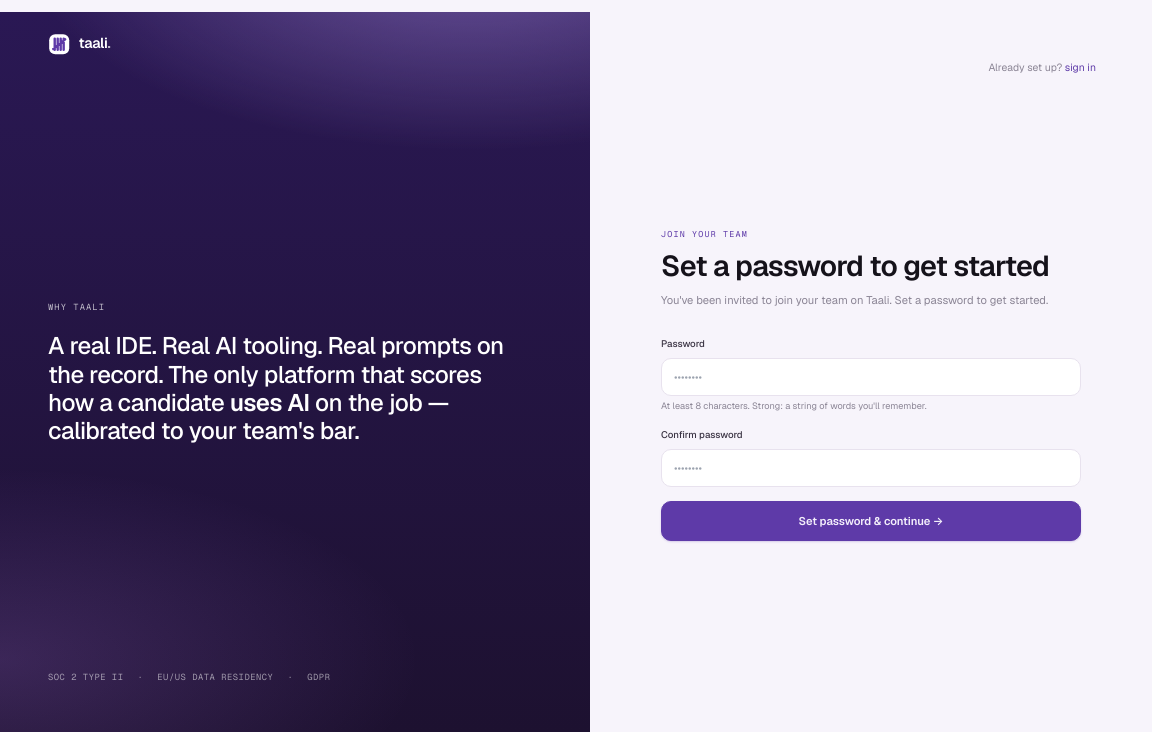
Test: Auth page redesign › offers a sign-in link when the invite was already accepted
Type "password123" into the password field with placeholder "••••••••" at [871, 377], box [661,358,1081,396]
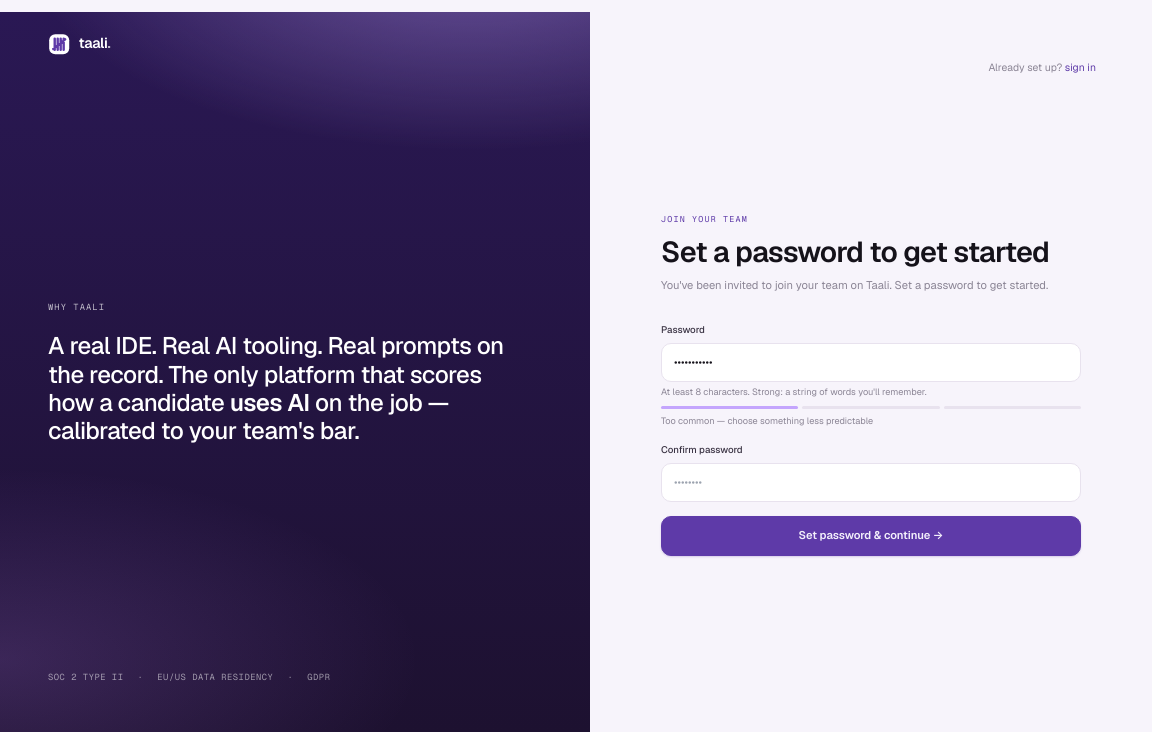
Type "password123" into the password field with placeholder "••••••••" at [871, 482], box [661,463,1081,502]
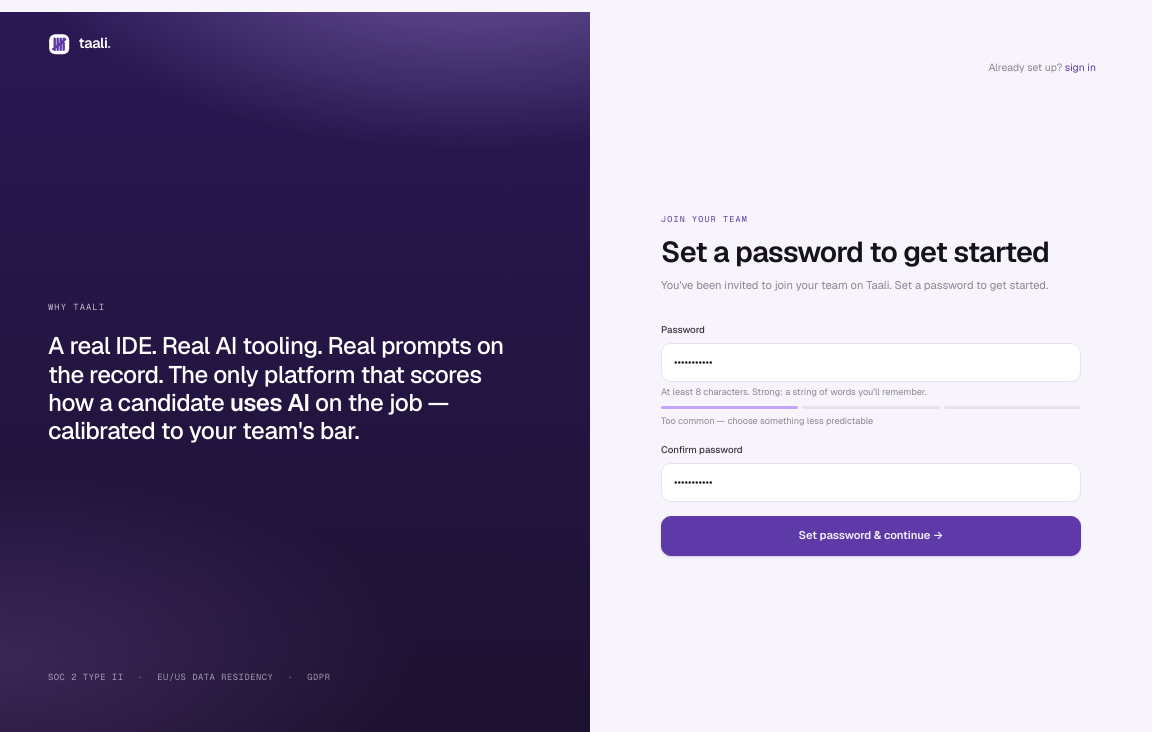
Click the button "Set password & continue →" at [871, 536], box [661,516,1081,556]
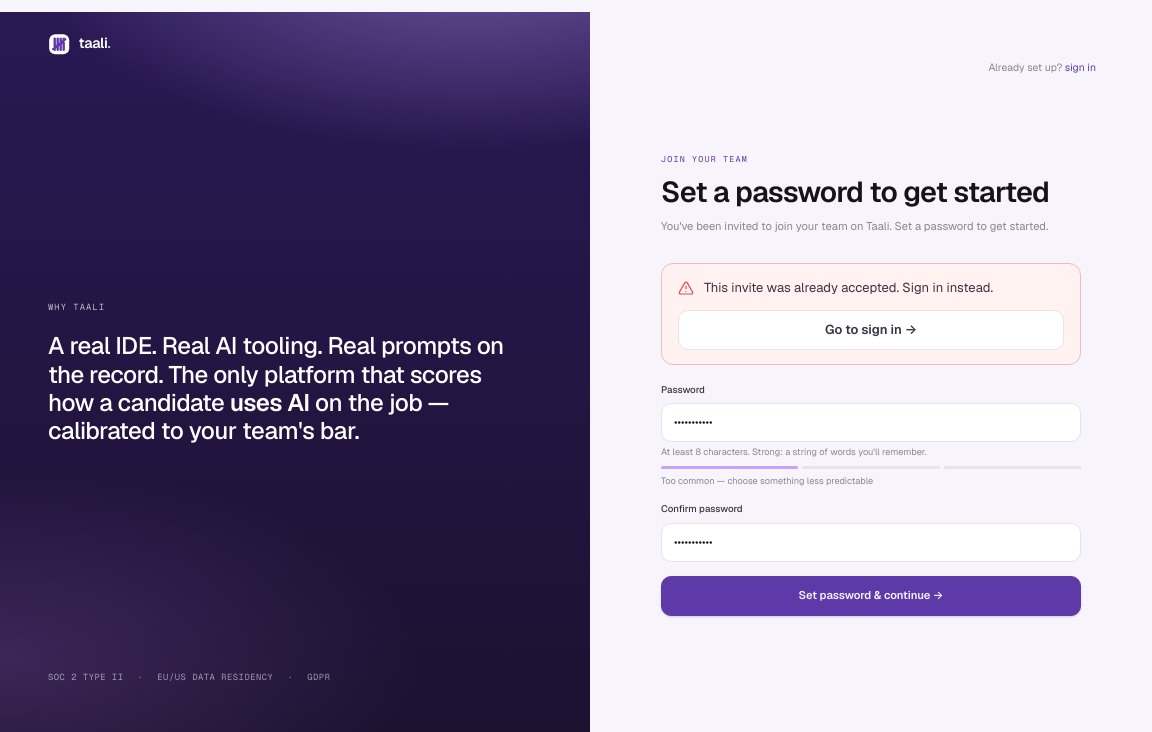
Now the text "This invite was already accepted. Sign in instead." is shown, box [704,278,993,298]
Now the link "Go to sign in →" is shown, box [678,310,1064,350]
